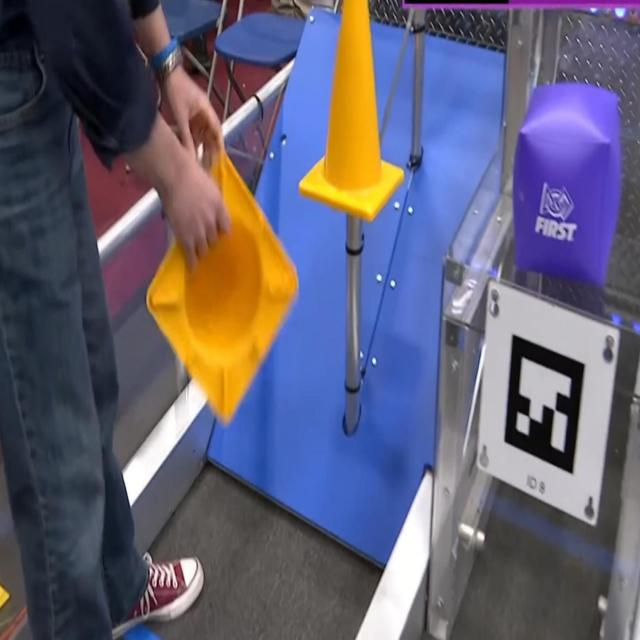frc_cone: (151, 158, 295, 408), (299, 0, 405, 223)
frc_cube: (514, 82, 622, 286)
